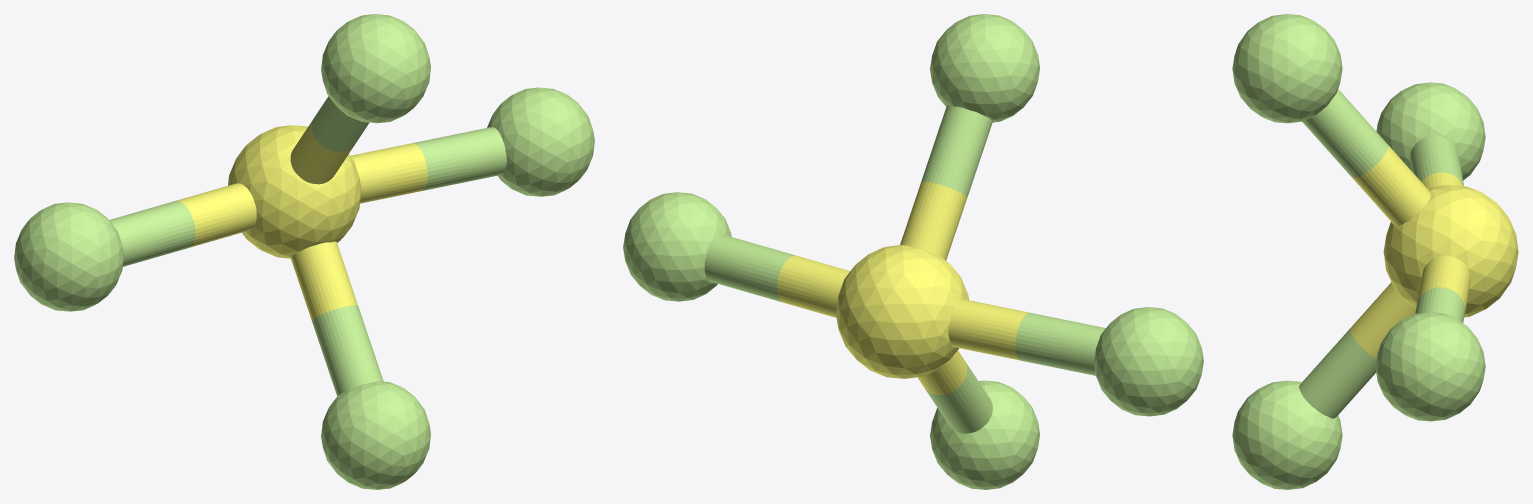
3 views of the same model, side by side, from view 1: azimuth 30°, elevation 25°; view 2: azimuth 150°, elevation 25°; view 3: azimuth 270°, elevation 25° (orthographic).
Parts seen in each view (by area): view 1: Shape_IndexedFaceSet, Shape_IndexedFaceSet.001, Shape_IndexedFaceSet.003, Shape_IndexedFaceSet.004, Shape_IndexedFaceSet.002, Shape_IndexedFaceSet.013, Shape_IndexedFaceSet.007, Shape_IndexedFaceSet.016, Shape_IndexedFaceSet.012, Shape_IndexedFaceSet.005, Shape_IndexedFaceSet.015, Shape_IndexedFaceSet.009 (+1 smaller); view 2: Shape_IndexedFaceSet, Shape_IndexedFaceSet.001, Shape_IndexedFaceSet.003, Shape_IndexedFaceSet.002, Shape_IndexedFaceSet.004, Shape_IndexedFaceSet.010, Shape_IndexedFaceSet.016, Shape_IndexedFaceSet.013, Shape_IndexedFaceSet.015, Shape_IndexedFaceSet.009, Shape_IndexedFaceSet.012, Shape_IndexedFaceSet.007 (+1 smaller); view 3: Shape_IndexedFaceSet, Shape_IndexedFaceSet.002, Shape_IndexedFaceSet.003, Shape_IndexedFaceSet.004, Shape_IndexedFaceSet.001, Shape_IndexedFaceSet.010, Shape_IndexedFaceSet.007, Shape_IndexedFaceSet.009, Shape_IndexedFaceSet.005, Shape_IndexedFaceSet.016, Shape_IndexedFaceSet.012, Shape_IndexedFaceSet.013 (+1 smaller).
Boxes of the visible parts, x1,y1,x2,y2 form: Shape_IndexedFaceSet: [228, 125, 361, 258]; Shape_IndexedFaceSet.001: [14, 202, 123, 311]; Shape_IndexedFaceSet.003: [321, 14, 430, 123]; Shape_IndexedFaceSet.004: [321, 381, 430, 489]; Shape_IndexedFaceSet.002: [487, 87, 594, 196]; Shape_IndexedFaceSet.013: [413, 127, 506, 190]; Shape_IndexedFaceSet.007: [312, 305, 383, 396]; Shape_IndexedFaceSet.016: [109, 201, 195, 266]; Shape_IndexedFaceSet.012: [350, 143, 427, 203]; Shape_IndexedFaceSet.005: [290, 241, 357, 320]; Shape_IndexedFaceSet.015: [176, 183, 256, 247]; Shape_IndexedFaceSet.009: [290, 118, 353, 184]; Shape_IndexedFaceSet: [835, 245, 968, 378]; Shape_IndexedFaceSet.001: [1093, 307, 1203, 416]; Shape_IndexedFaceSet.003: [930, 14, 1039, 122]; Shape_IndexedFaceSet.002: [623, 192, 731, 301]; Shape_IndexedFaceSet.004: [930, 380, 1039, 489]; Shape_IndexedFaceSet.010: [921, 105, 992, 197]; Shape_IndexedFaceSet.016: [1015, 313, 1105, 375]; Shape_IndexedFaceSet.013: [704, 234, 795, 302]; Shape_IndexedFaceSet.015: [948, 299, 1030, 360]; Shape_IndexedFaceSet.009: [900, 181, 967, 260]; Shape_IndexedFaceSet.012: [777, 255, 850, 317]; Shape_IndexedFaceSet.007: [925, 361, 992, 433]; Shape_IndexedFaceSet: [1383, 185, 1518, 317]; Shape_IndexedFaceSet.002: [1375, 312, 1485, 421]; Shape_IndexedFaceSet.003: [1232, 14, 1342, 123]; Shape_IndexedFaceSet.004: [1232, 380, 1342, 489]; Shape_IndexedFaceSet.001: [1376, 82, 1485, 180]; Shape_IndexedFaceSet.010: [1302, 89, 1388, 177]; Shape_IndexedFaceSet.007: [1299, 328, 1376, 418]; Shape_IndexedFaceSet.009: [1352, 145, 1430, 225]; Shape_IndexedFaceSet.005: [1350, 282, 1415, 358]; Shape_IndexedFaceSet.016: [1410, 135, 1463, 185]; Shape_IndexedFaceSet.012: [1417, 256, 1470, 311]; Shape_IndexedFaceSet.013: [1415, 287, 1465, 322].
Size of the model in its own units: 2.44 by 1.92 by 1.07.
